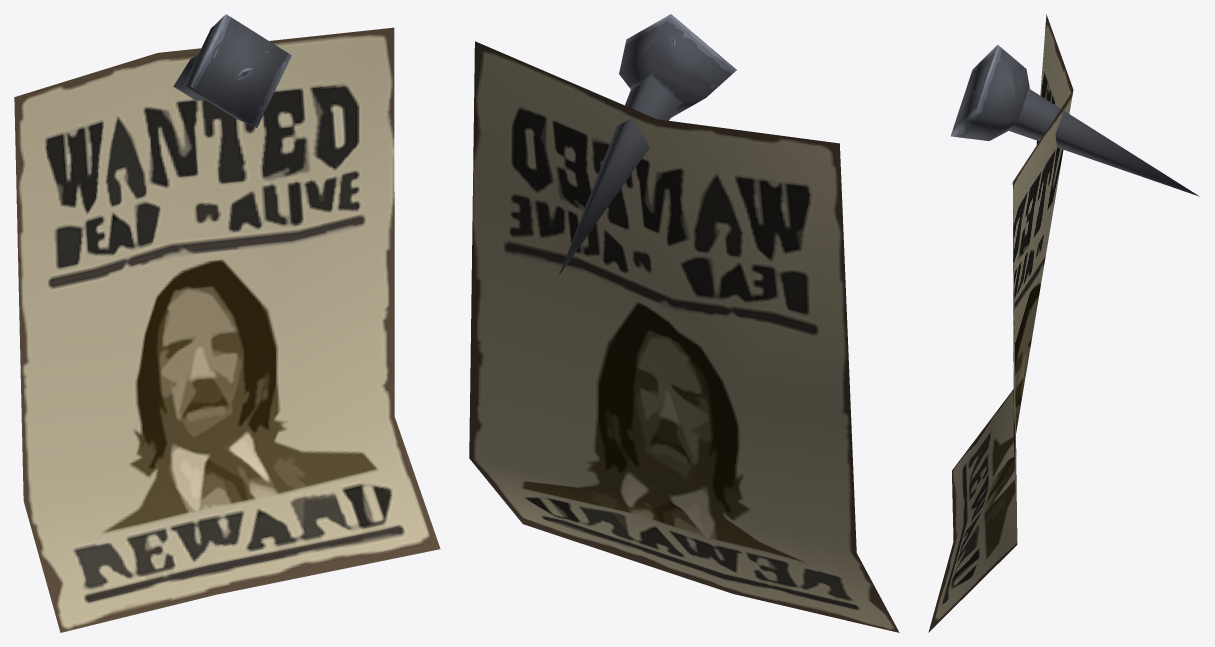
File: SM_PROP_poster_01.fbx
3 renders of one model, left to right at view 1: azimuth 30°, elevation 25°; view 2: azimuth 150°, elevation 25°; view 3: azimuth 270°, elevation 25°, orthographic. The views are drawn at different scales.
Parts seen in each view (by area): view 1: SM_PROP_poster_01; view 2: SM_PROP_poster_01; view 3: SM_PROP_poster_01.
Boxes of the visible parts, x1,y1,x2,y2 form: SM_PROP_poster_01: (14,14,440,632); SM_PROP_poster_01: (469,14,899,632); SM_PROP_poster_01: (928,14,1199,632).
Bounding box in the file's own units: 37.16 × 53.3 × 25.66.
